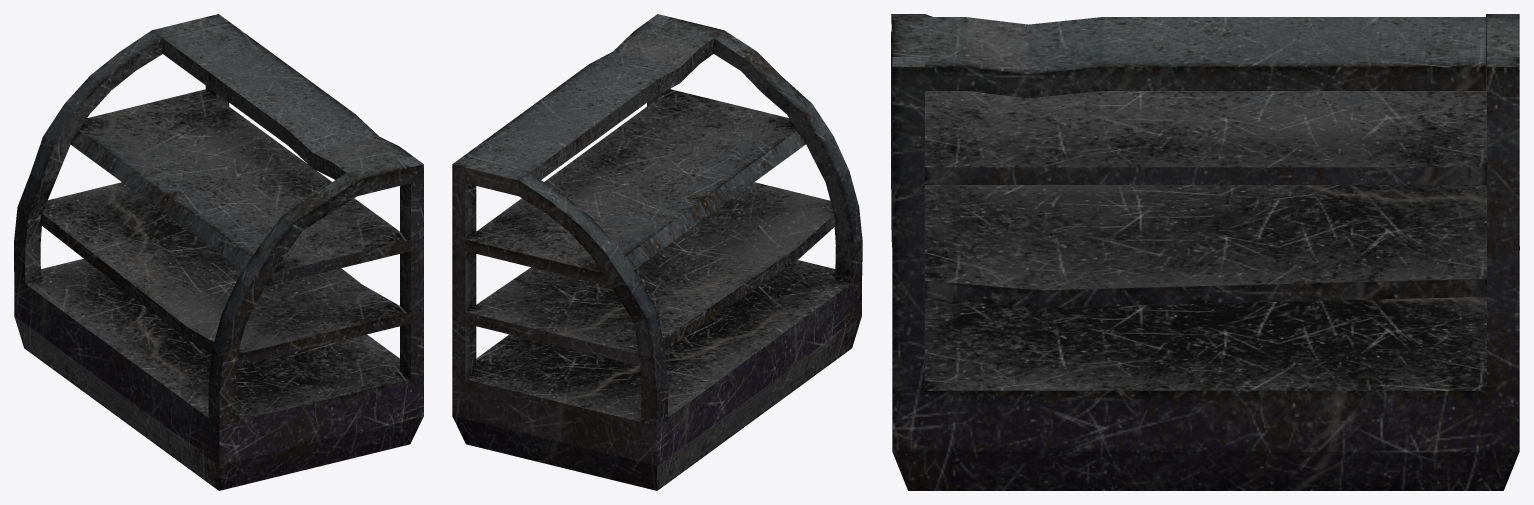
The model's file is Vitrina_de_PostresV3.glb.
The picture shows the model from 3 angles, left to right: view 1: azimuth 30°, elevation 25°; view 2: azimuth 150°, elevation 25°; view 3: azimuth 270°, elevation 25°; orthographic projection. The views are drawn at different scales.
Visible parts, largest first — view 1: Vitrina_Postres_V3; view 2: Vitrina_Postres_V3; view 3: Vitrina_Postres_V3.
Part boxes in pixels (x1=…): Vitrina_Postres_V3: x1=14, y1=14, x2=423, y2=490; Vitrina_Postres_V3: x1=452, y1=14, x2=862, y2=490; Vitrina_Postres_V3: x1=891, y1=14, x2=1519, y2=490.
Bounding box in the file's own units: 1.29 × 1.7 × 2.25.
Materials: 1 (1 with a texture image).
